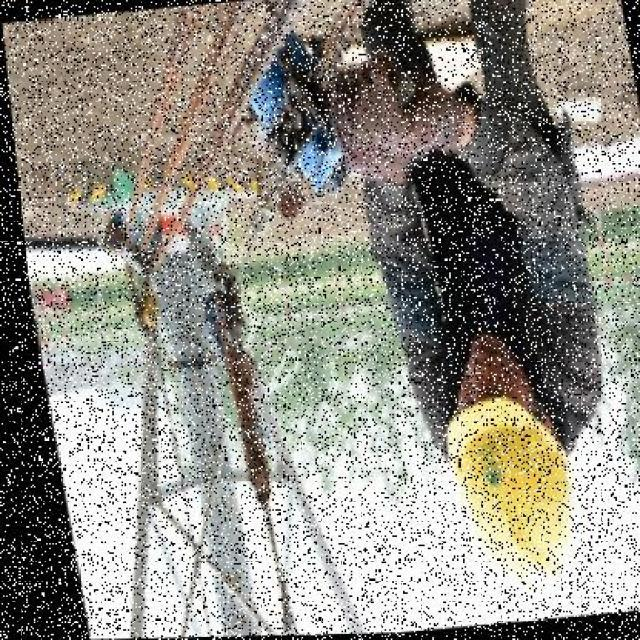helmet: (419, 385, 585, 591)
